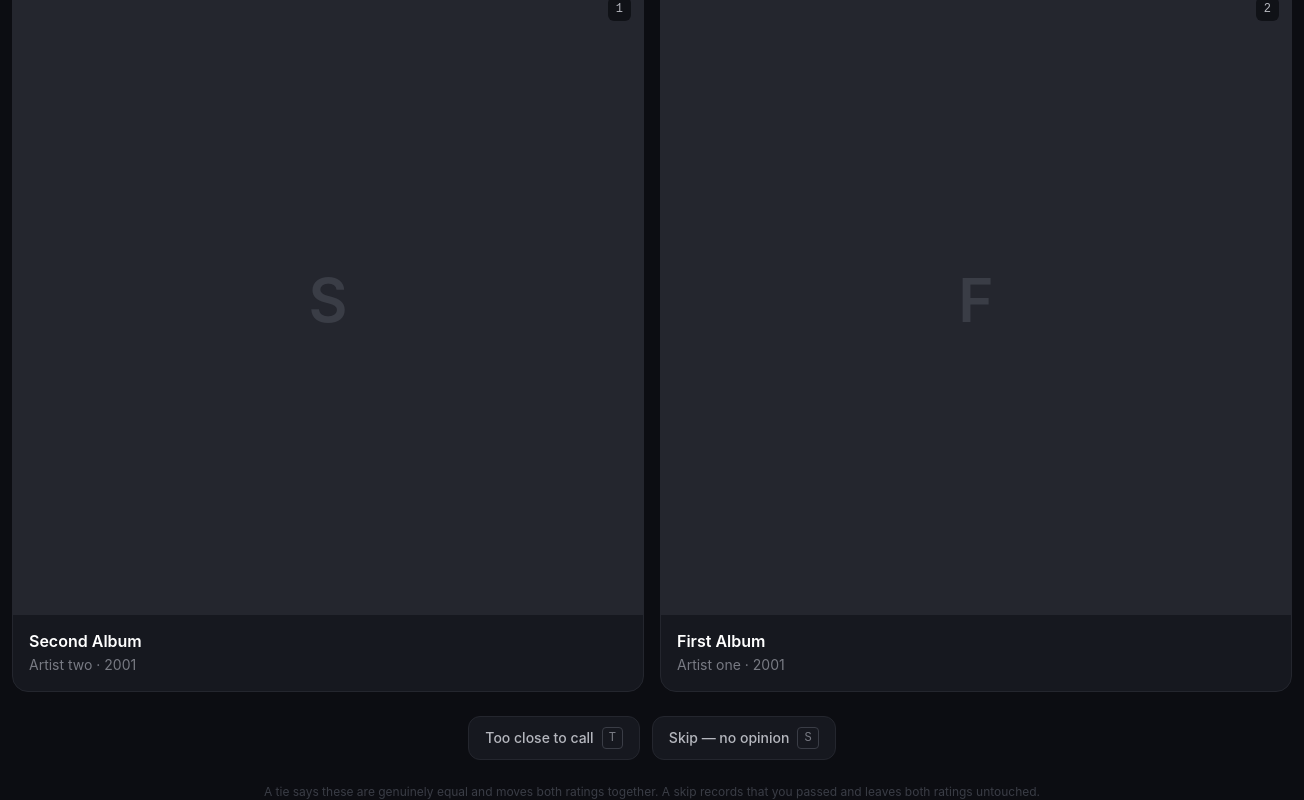
Test: CompareView › counts the session as it goes
(page scrolled)
Click the button "Skip — no opinion S".
click(744, 738)  # box [652,716,836,760]
(page scrolled)
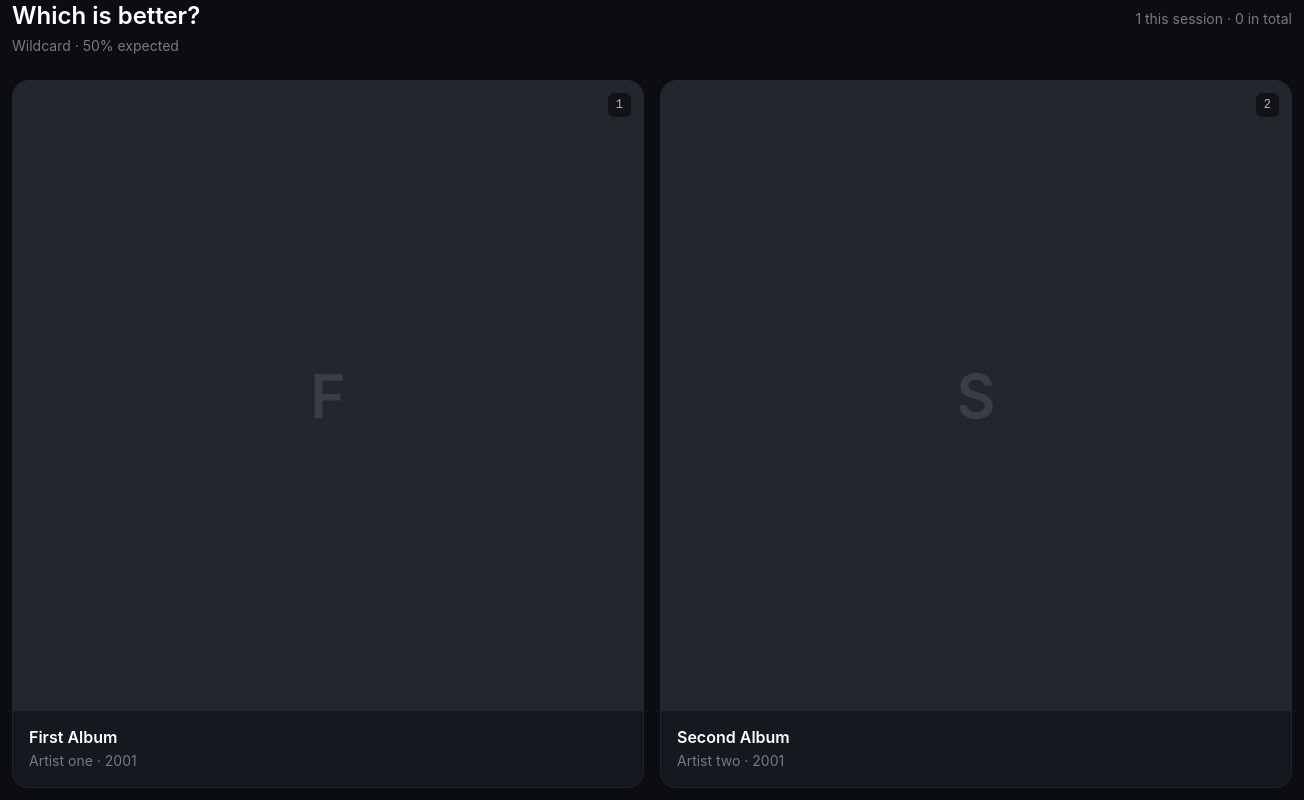
Expected: the text "1 this session · 0 in total" is shown, [1135,9,1292,29]
